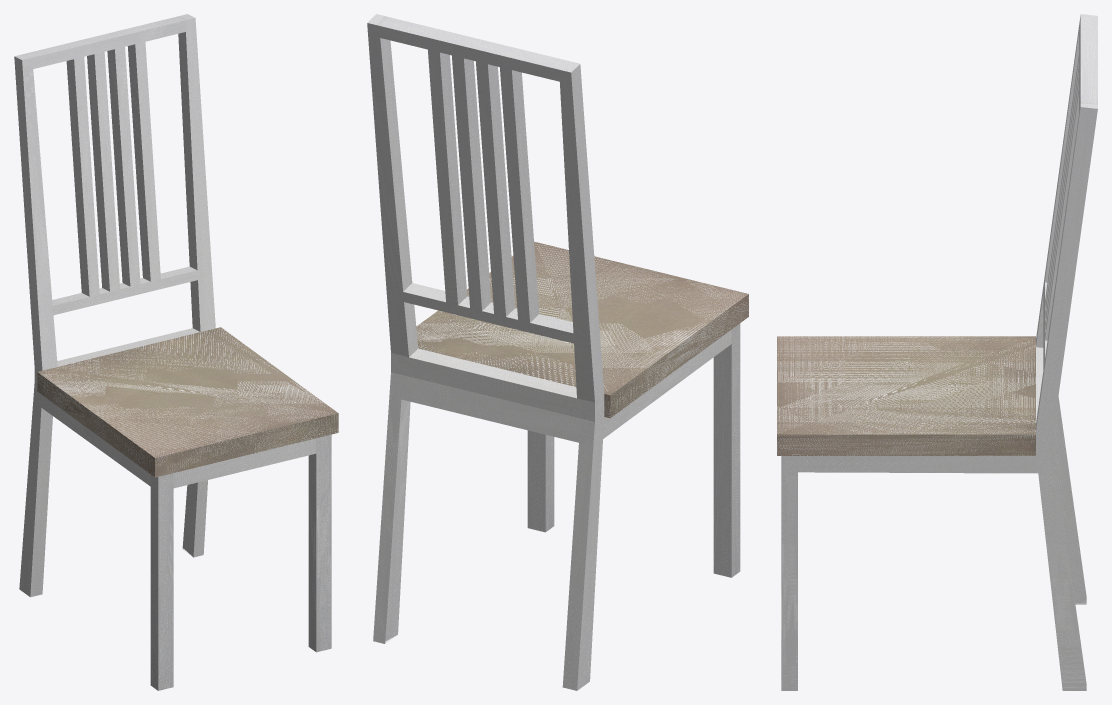
The model's file is Stuhl_borje.dae.
3 renders of one model, left to right at view 1: azimuth 30°, elevation 25°; view 2: azimuth 150°, elevation 25°; view 3: azimuth 270°, elevation 25°, orthographic. The views are drawn at different scales.
Visible parts, largest first — view 1: SketchUp (×2); view 2: SketchUp (×2); view 3: SketchUp (×2).
Part boxes in pixels (x1=…): SketchUp (×2): x1=14, y1=14, x2=338, y2=690; SketchUp (×2): x1=367, y1=14, x2=748, y2=690; SketchUp (×2): x1=777, y1=14, x2=1097, y2=690.
Bounding box in the file's own units: 0.36 × 0.4957 × 0.9951.
Materials: 4 (2 with a texture image).
